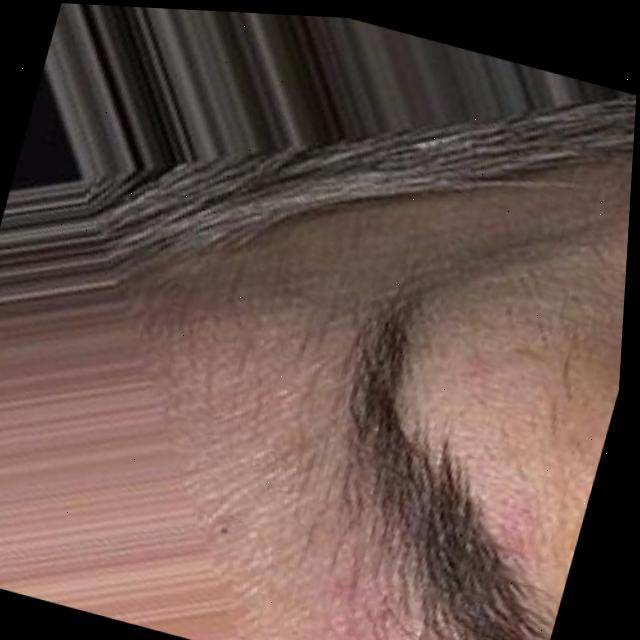Rosacea: (419, 344, 589, 559), (284, 560, 459, 640)
